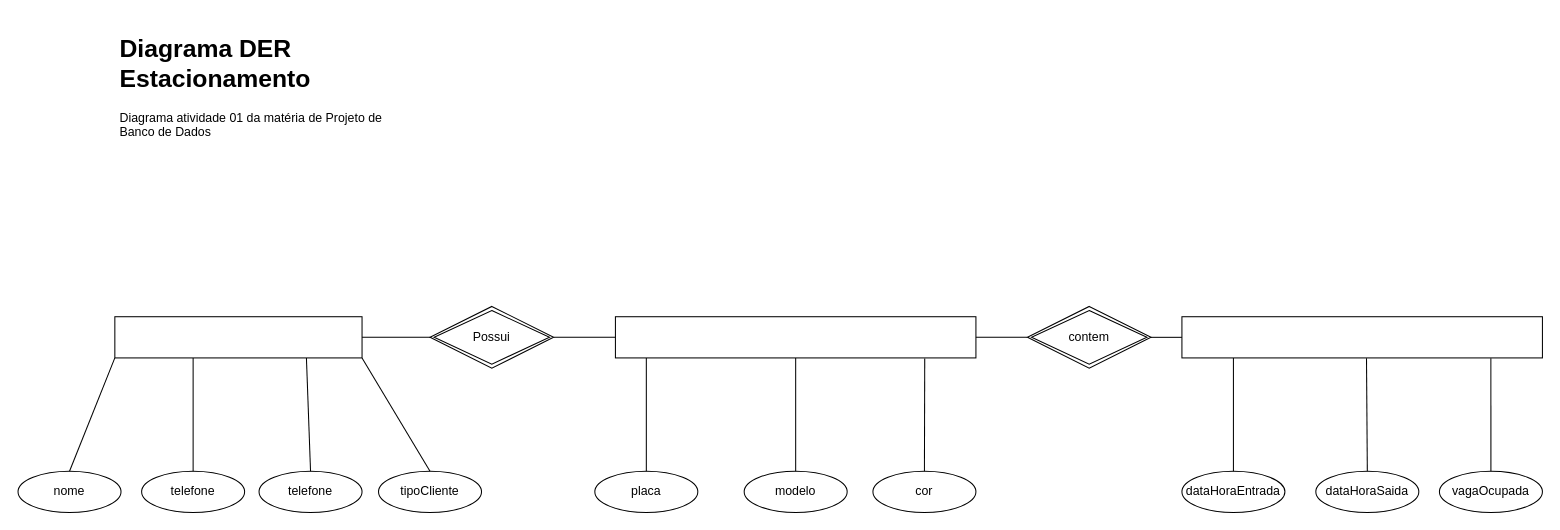
This 1560x530 diagram has some shape labels left out. The centre of each missing label's shape, as x and y in pixels:
"Pessoa" belongs at pixel 238 337.
"registroVagas" belongs at pixel 1361 337.
"Veículo" belongs at pixel 795 337.
